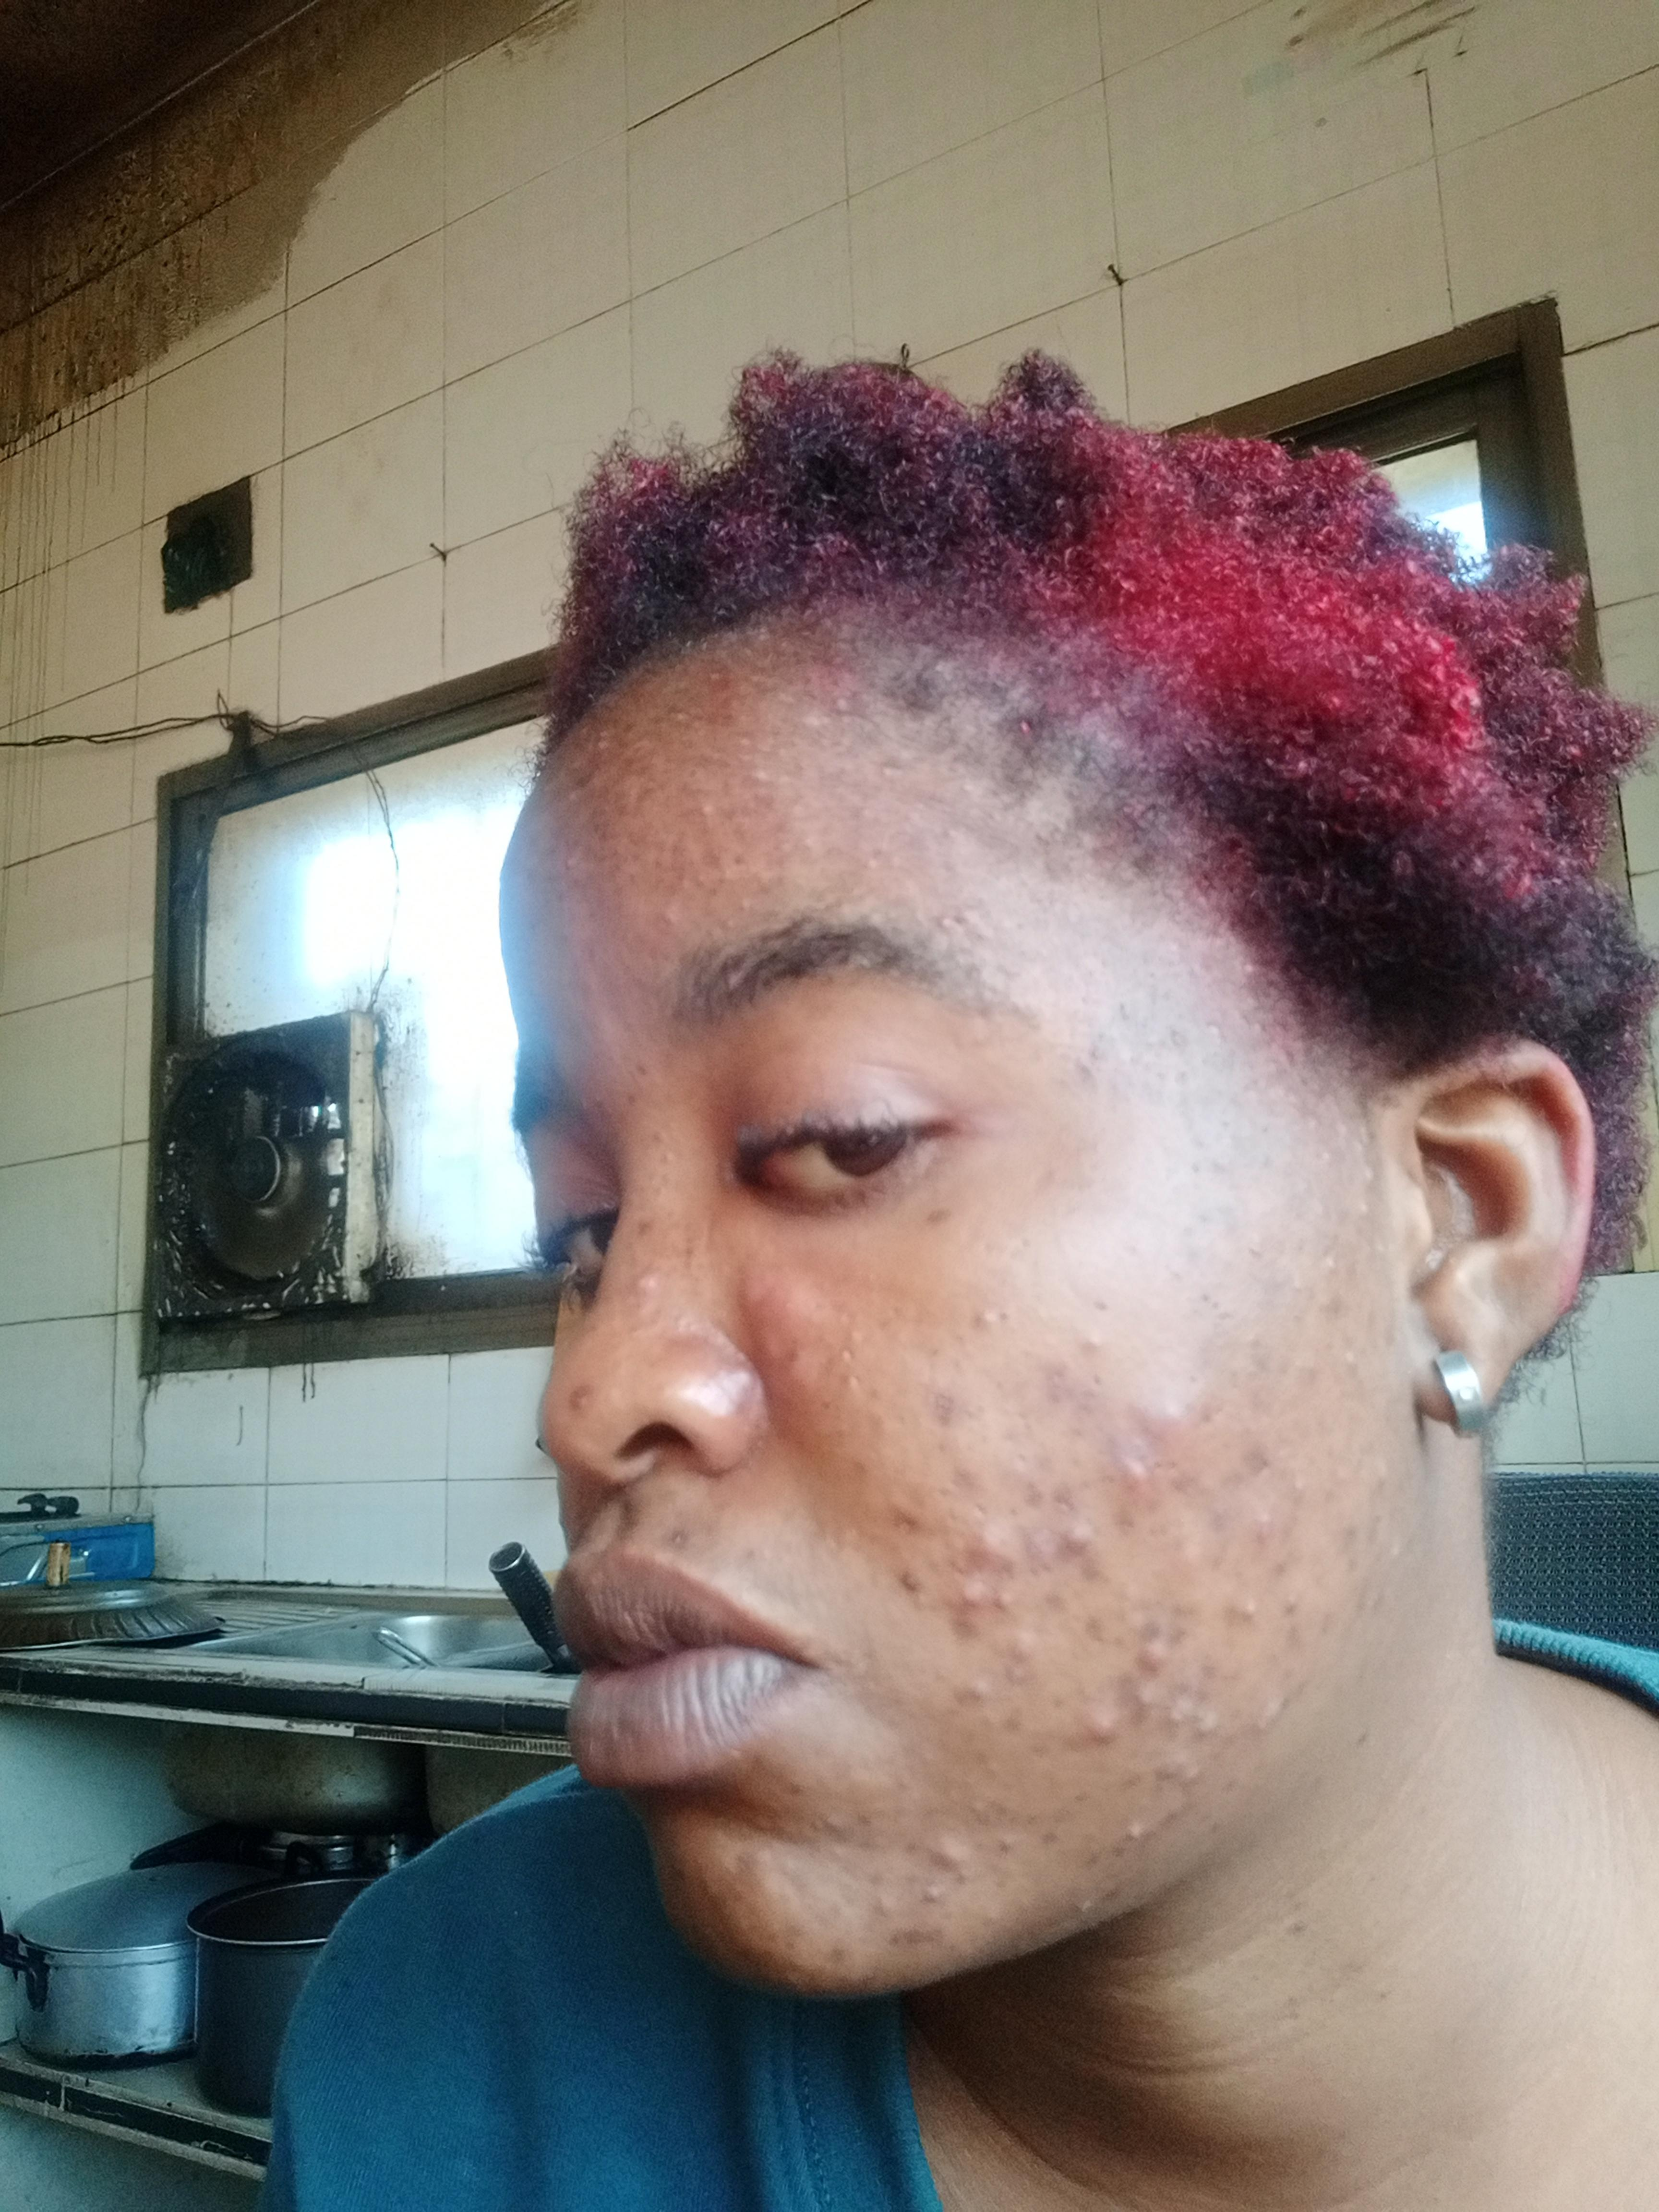Acne: (742, 1264, 823, 1372), (1030, 1357, 1105, 1435), (1018, 1510, 1101, 1578), (1127, 1388, 1195, 1447), (1058, 1707, 1127, 1756), (1218, 1439, 1272, 1493), (943, 1578, 985, 1648), (1129, 1602, 1169, 1670), (835, 1322, 871, 1395), (953, 1522, 1007, 1571), (1070, 1029, 1108, 1097), (1107, 1444, 1152, 1498), (1000, 1623, 1039, 1686), (1249, 1686, 1295, 1737), (697, 664, 735, 723), (1018, 1470, 1077, 1507), (884, 1919, 946, 1951), (1150, 1686, 1202, 1723), (1152, 1750, 1204, 1787), (1166, 1597, 1202, 1644), (927, 1831, 967, 1872), (1263, 1538, 1303, 1578), (945, 1672, 990, 1707), (925, 1383, 958, 1430), (1277, 1595, 1305, 1651), (936, 902, 983, 934), (617, 768, 648, 815), (1124, 1679, 1162, 1717), (1309, 1289, 1349, 1325), (889, 1496, 925, 1534), (1202, 1501, 1237, 1541), (1220, 1592, 1262, 1625), (1161, 1463, 1202, 1496), (566, 761, 603, 798), (1283, 1360, 1323, 1392), (817, 1806, 856, 1838), (566, 1376, 598, 1413), (629, 1264, 666, 1296), (892, 1562, 924, 1599), (660, 1522, 695, 1552), (1187, 1705, 1223, 1733), (875, 754, 911, 782), (1115, 1813, 1148, 1843), (1281, 1467, 1310, 1500), (1251, 1510, 1277, 1547), (948, 1463, 981, 1491), (591, 721, 617, 756), (741, 1843, 775, 1869), (685, 796, 716, 824), (1112, 1510, 1145, 1536), (633, 1211, 659, 1244), (1080, 1327, 1108, 1355), (990, 1831, 1018, 1858), (1070, 1892, 1100, 1918), (995, 1590, 1021, 1618), (1335, 1346, 1361, 1374), (554, 848, 580, 876), (1002, 1707, 1028, 1735), (915, 1885, 951, 1904), (1371, 1460, 1392, 1493), (1164, 1029, 1190, 1055), (653, 904, 678, 932), (864, 1897, 894, 1919), (1084, 1613, 1107, 1642), (1039, 1592, 1070, 1613), (744, 765, 769, 791), (1312, 1249, 1342, 1270), (971, 1303, 995, 1327), (1340, 1521, 1361, 1547), (831, 691, 852, 716), (1206, 1022, 1229, 1043), (1040, 1825, 1063, 1846), (725, 850, 746, 873), (669, 702, 694, 721), (1358, 1158, 1378, 1179), (1354, 1195, 1373, 1217), (732, 730, 755, 747), (1068, 1789, 1091, 1804)
